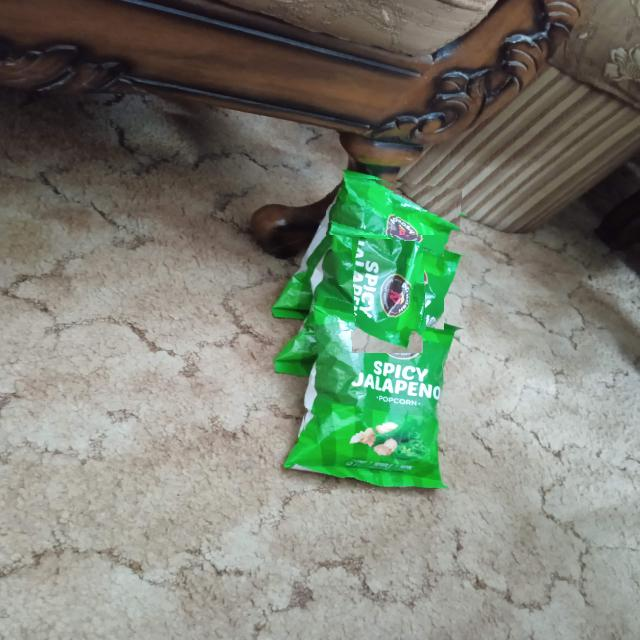Plastic: (302, 306, 443, 489), (329, 217, 444, 331), (326, 174, 462, 235)
